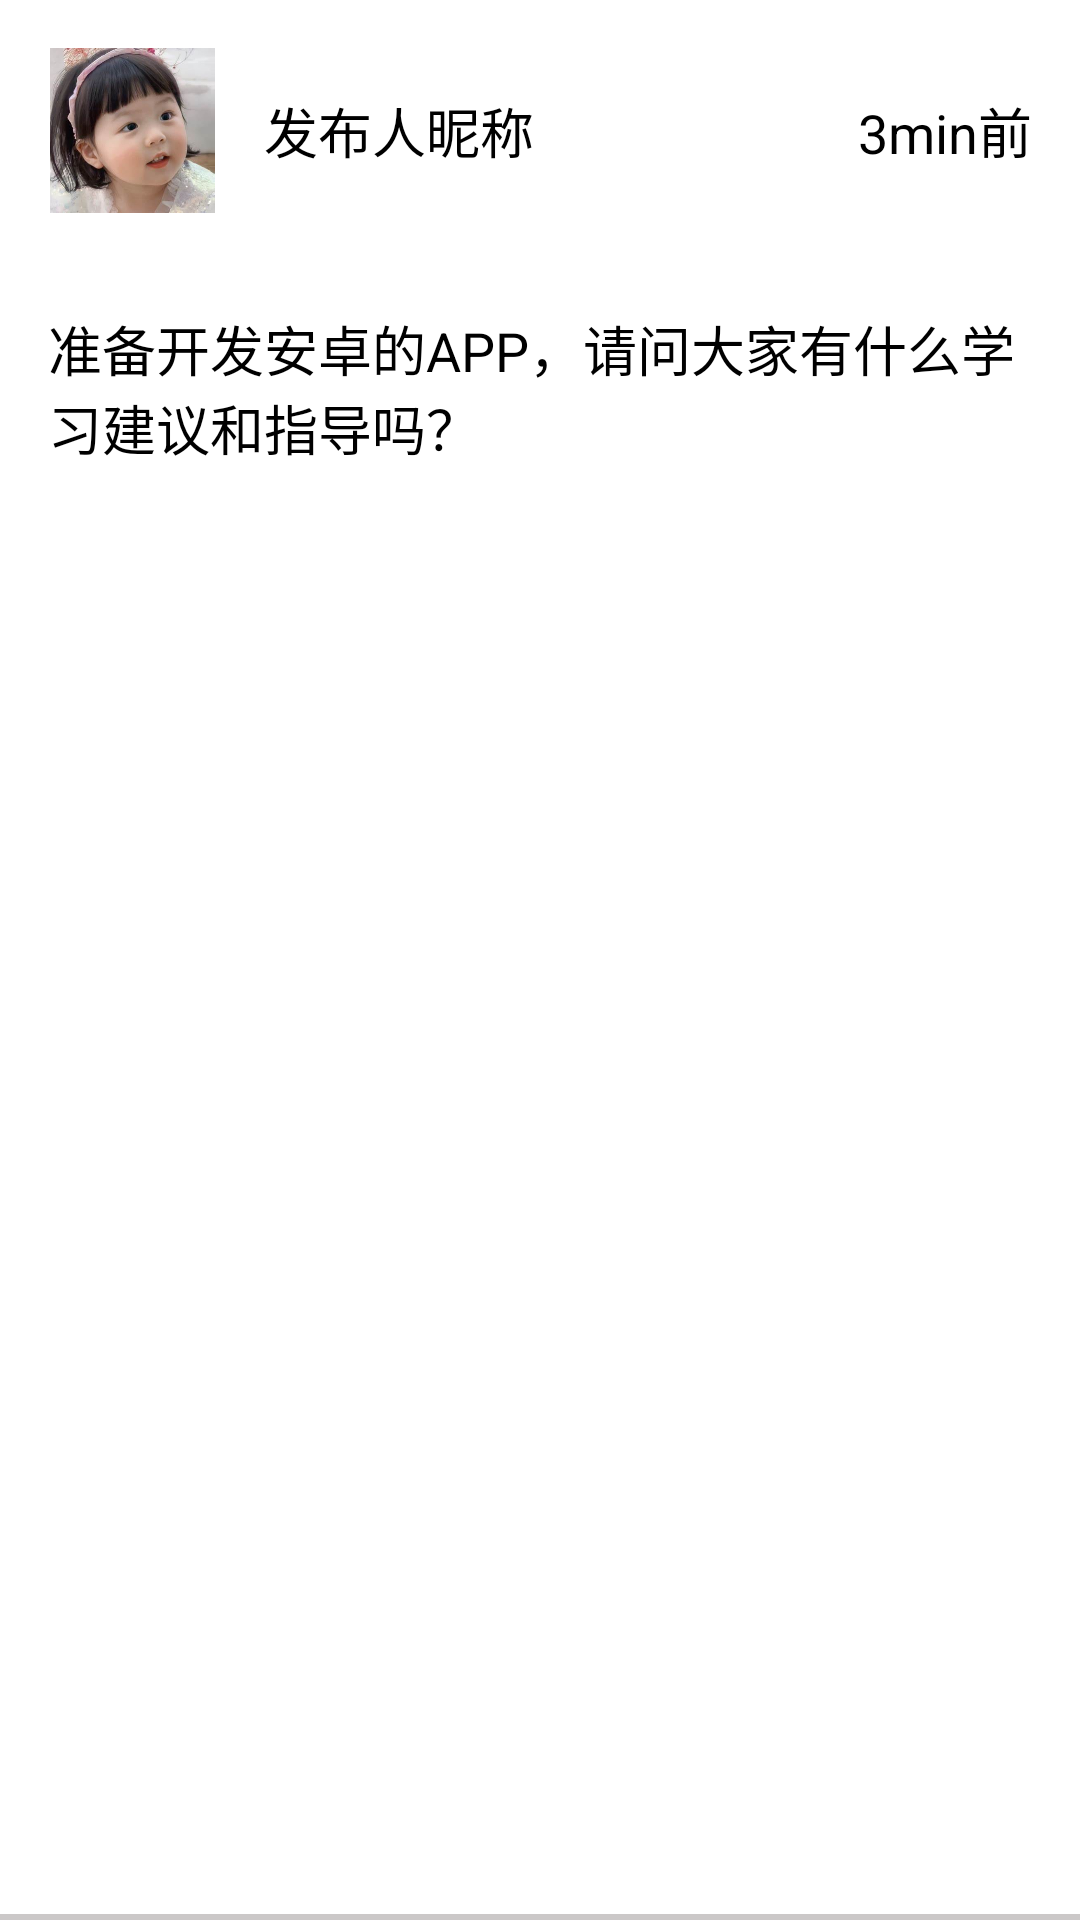

Where to tap for icons on this 1080x1920 app screen, as [x,y]:
head: [132,130]
